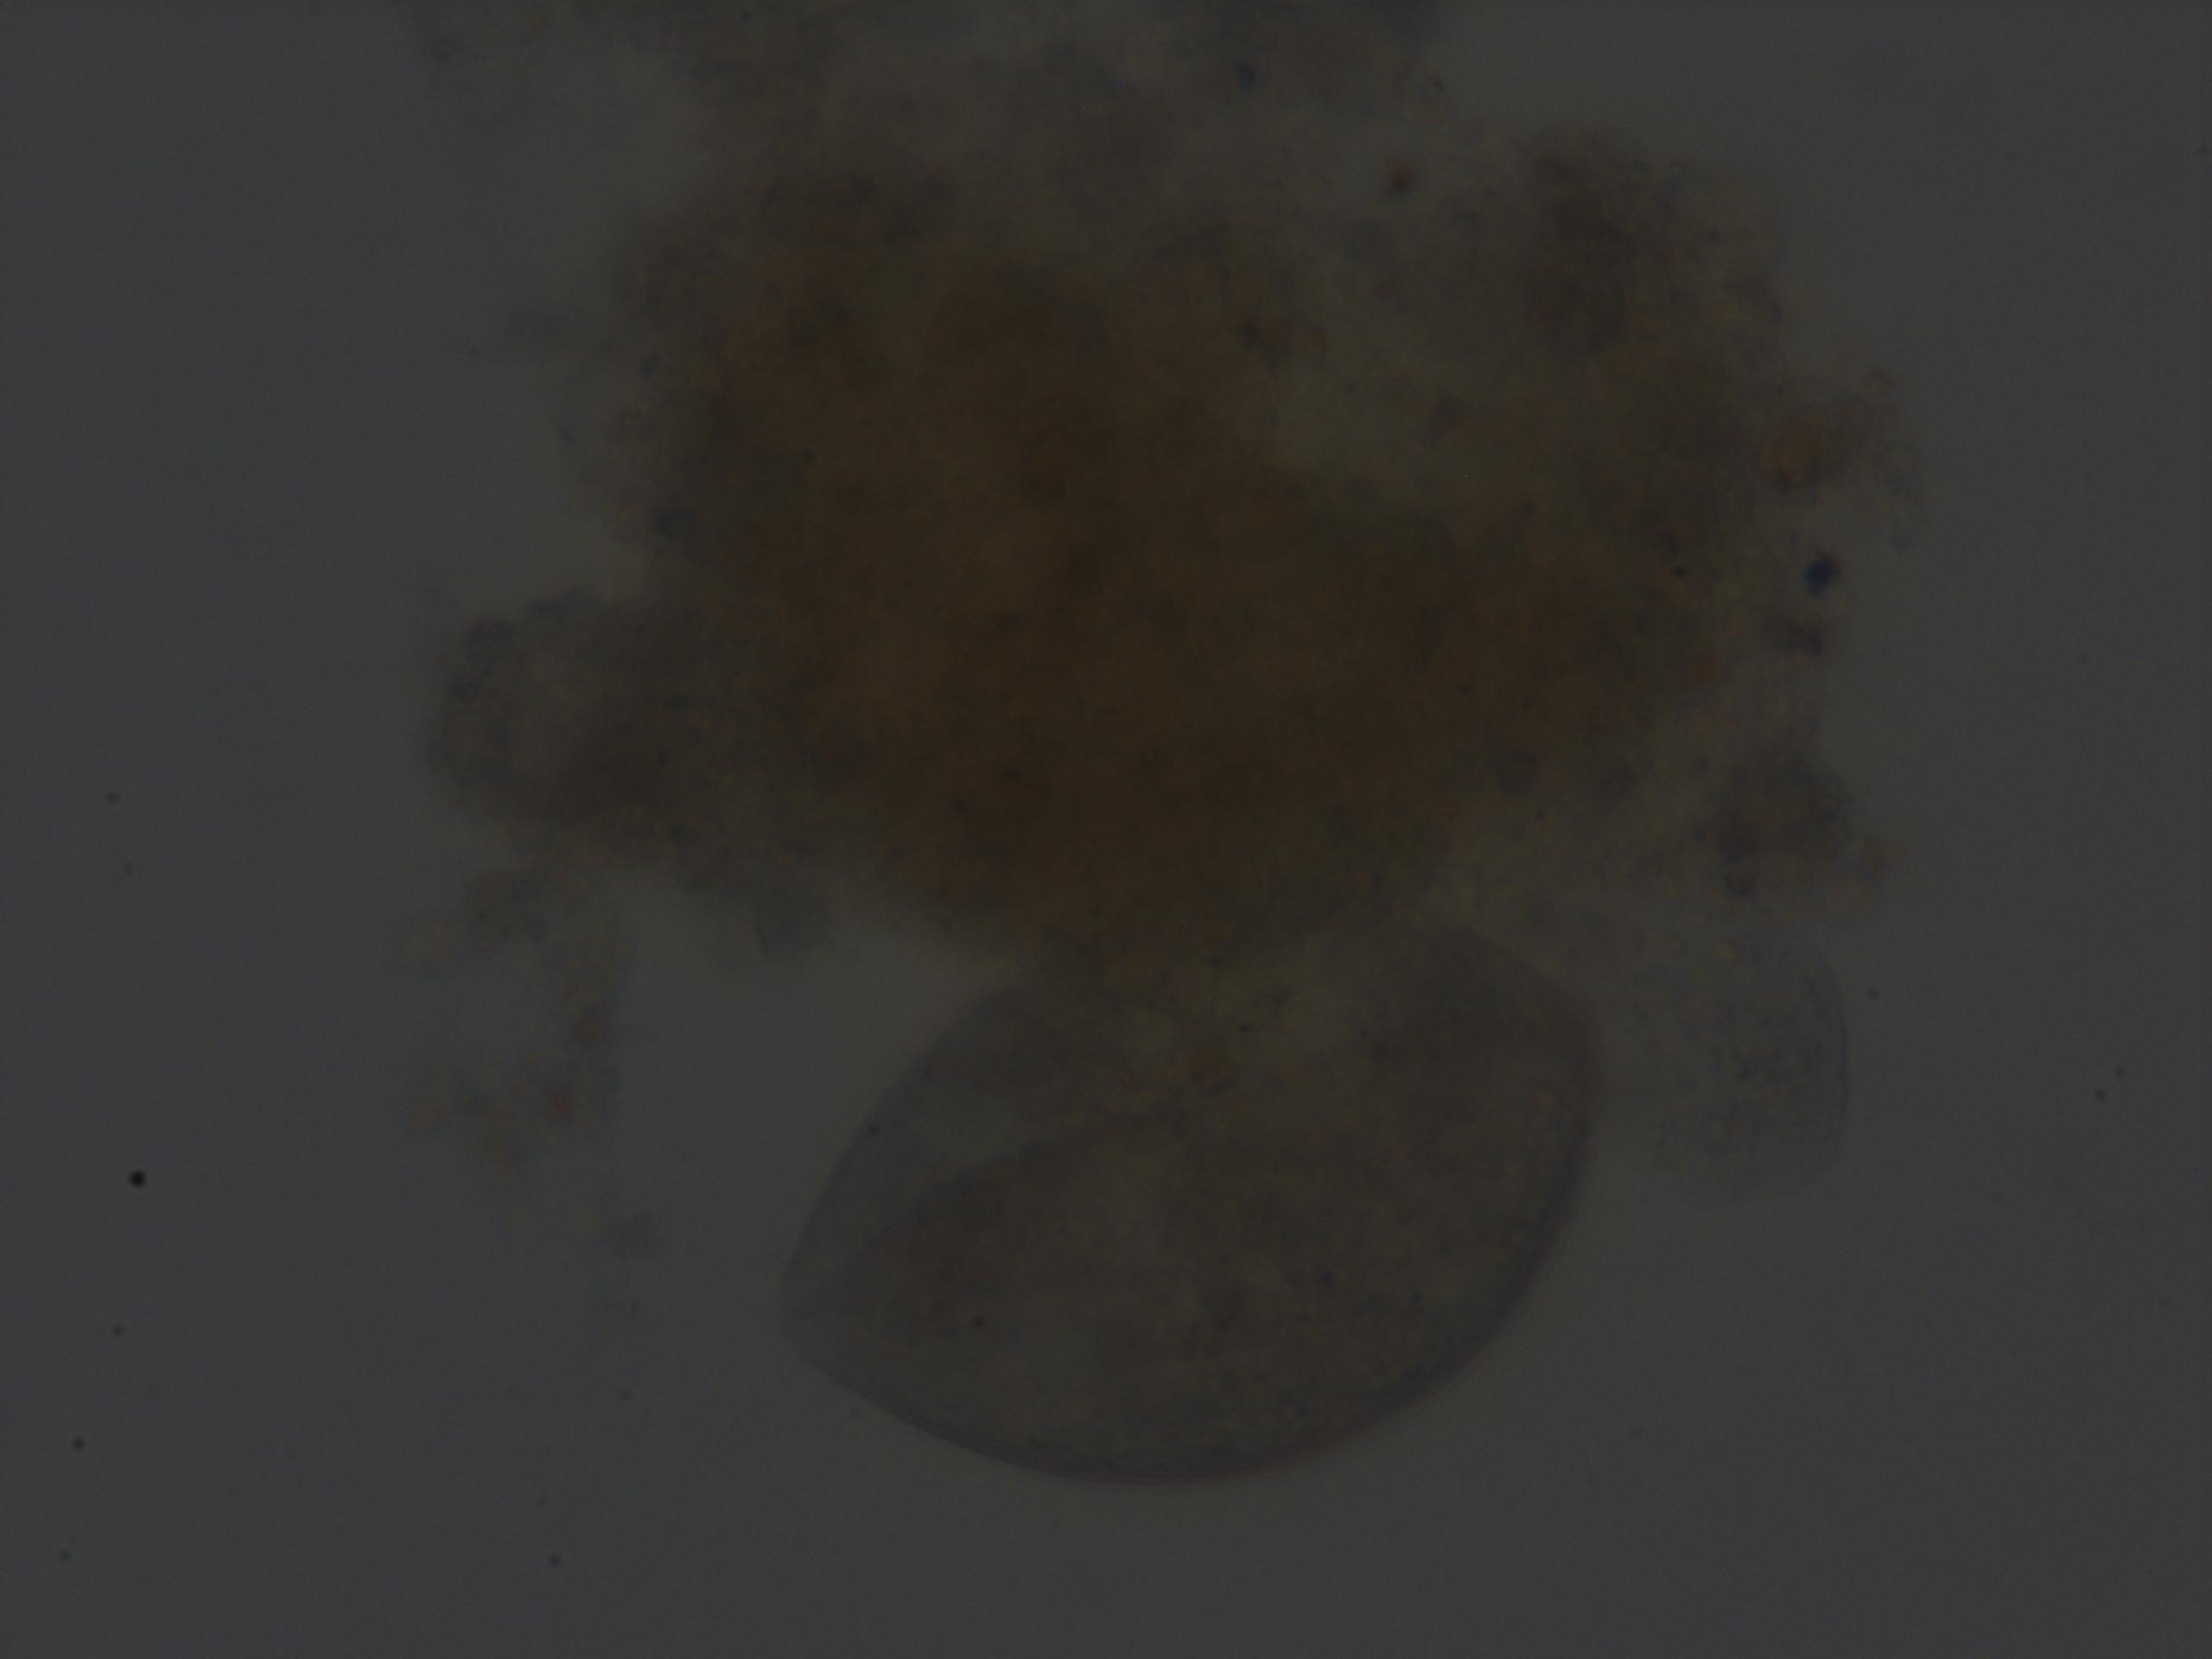protozoa: (768, 896, 1616, 1469)
